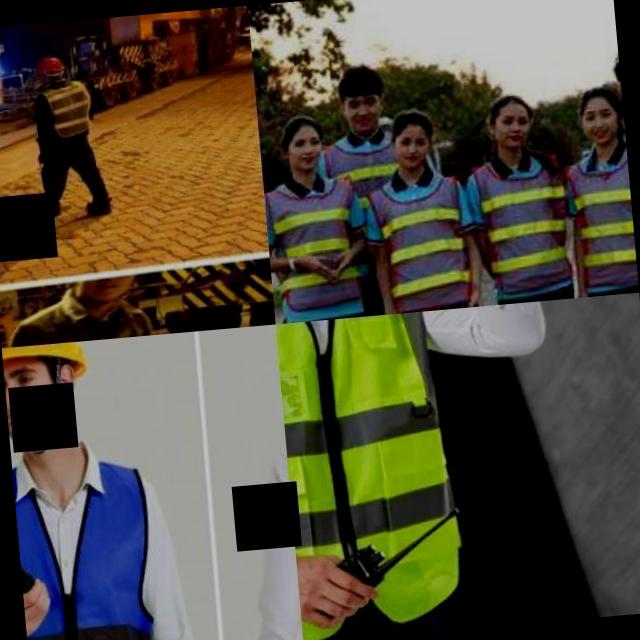vest: (276, 308, 478, 634), (11, 451, 178, 640), (263, 174, 378, 316), (378, 178, 492, 300), (477, 160, 585, 278), (559, 150, 638, 289), (38, 76, 102, 142)
